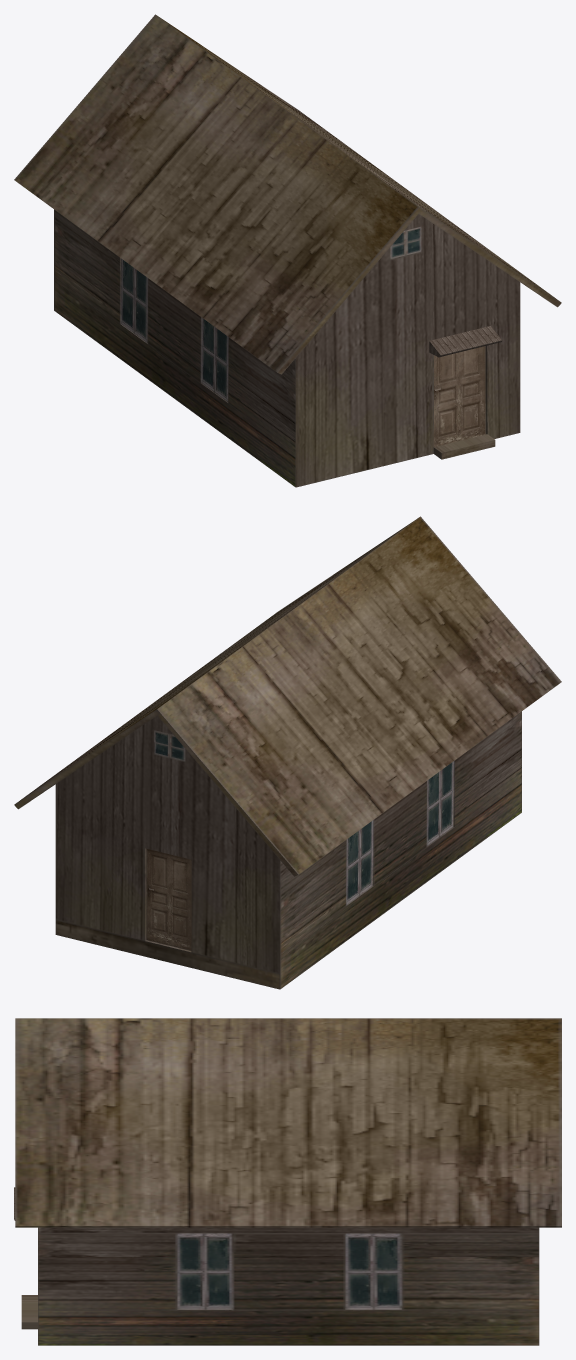
Rendered from HouseWoodenDesert.FBX.
3 renders of one model, top to bottom at view 1: azimuth 30°, elevation 25°; view 2: azimuth 150°, elevation 25°; view 3: azimuth 270°, elevation 25°, orthographic. The views are drawn at different scales.
Visible parts, largest first — view 1: polySurface73; view 2: polySurface73; view 3: polySurface73.
Boxes of the visible parts, x1,y1,x2,y2 form: polySurface73: (14,14,561,487); polySurface73: (14,516,561,989); polySurface73: (14,1018,561,1345).
Size of the model in its own units: 0.2428 by 0.2128 by 0.3904.
